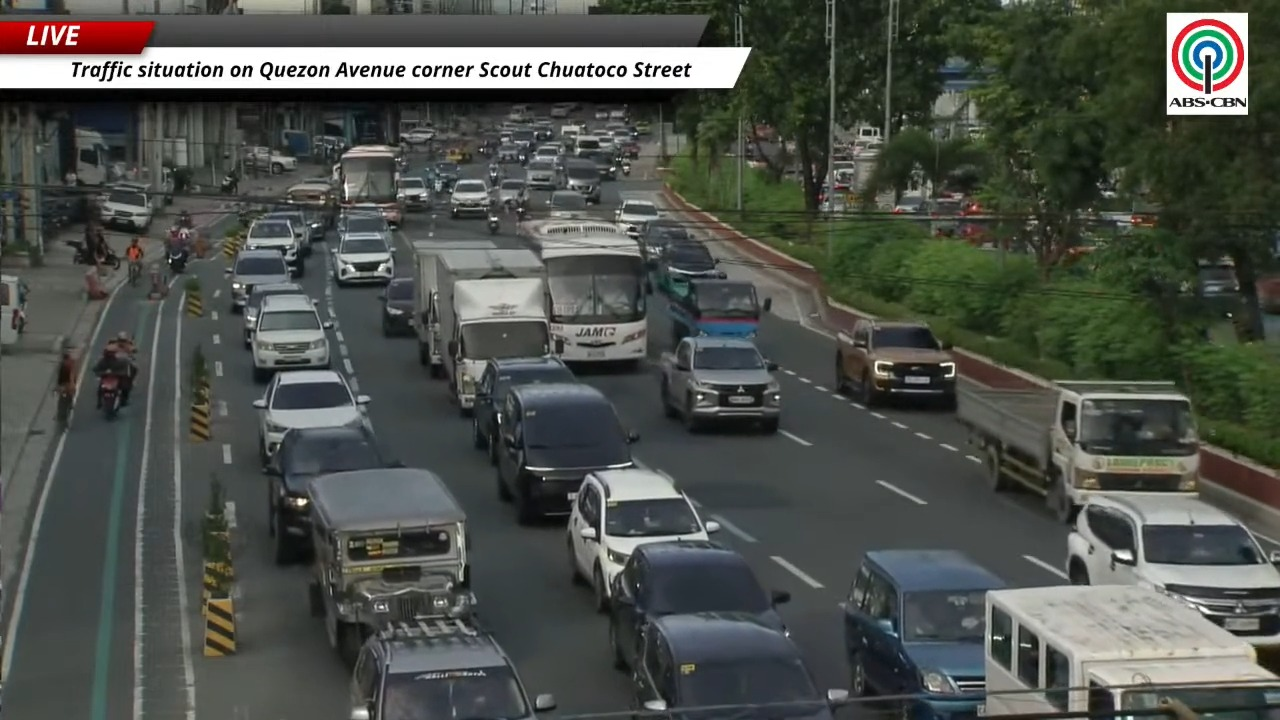bus: (521, 219, 647, 362), (335, 145, 402, 226)
car: (308, 468, 475, 665), (1066, 493, 1279, 645), (841, 549, 1005, 719), (608, 541, 789, 669), (632, 613, 848, 719), (566, 468, 719, 612), (350, 618, 554, 719), (496, 383, 638, 524), (264, 426, 397, 564), (659, 335, 781, 433), (253, 369, 369, 465), (472, 357, 575, 463), (834, 319, 956, 406), (251, 295, 332, 381), (669, 278, 771, 342), (224, 249, 292, 312), (652, 240, 726, 296), (243, 282, 305, 347), (244, 218, 304, 275), (331, 233, 394, 286), (259, 208, 324, 255), (285, 179, 334, 239), (640, 217, 693, 267), (99, 188, 153, 232), (379, 277, 414, 336), (337, 213, 393, 245), (450, 179, 493, 219), (564, 158, 601, 204), (615, 200, 659, 237), (241, 146, 296, 174), (547, 190, 588, 219), (398, 176, 432, 210), (525, 158, 560, 190), (583, 151, 617, 181), (432, 162, 460, 191), (497, 180, 527, 206), (400, 126, 437, 145), (512, 127, 537, 154), (531, 143, 563, 163), (494, 143, 526, 162), (534, 119, 554, 141), (618, 139, 640, 159), (446, 146, 471, 163), (550, 104, 572, 118), (634, 120, 650, 135), (593, 108, 608, 119)
motorcycle: (98, 374, 121, 419), (66, 241, 97, 265), (166, 248, 188, 273), (220, 173, 238, 194), (176, 210, 193, 229), (487, 213, 500, 233), (515, 204, 526, 220), (488, 170, 499, 186), (621, 161, 631, 175)
truck: (980, 585, 1279, 719), (956, 380, 1199, 523), (431, 249, 553, 416), (410, 239, 495, 377), (73, 128, 110, 186)
